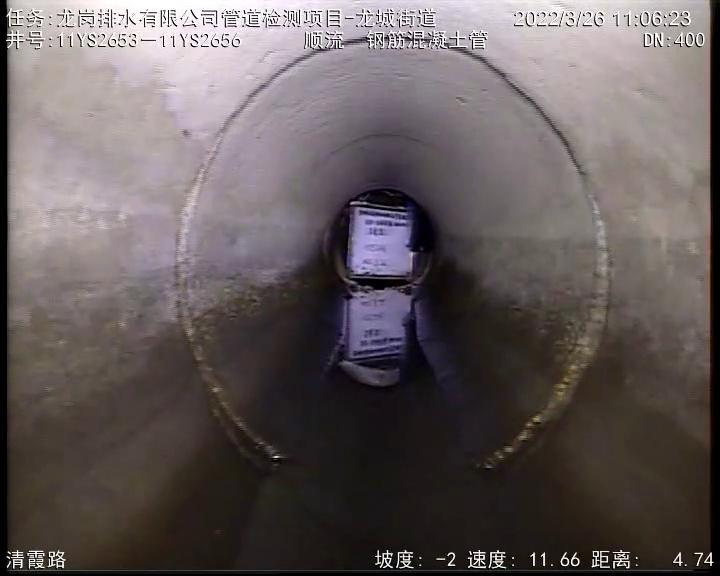CKTJ: (462, 47, 611, 469), (176, 54, 313, 460)
